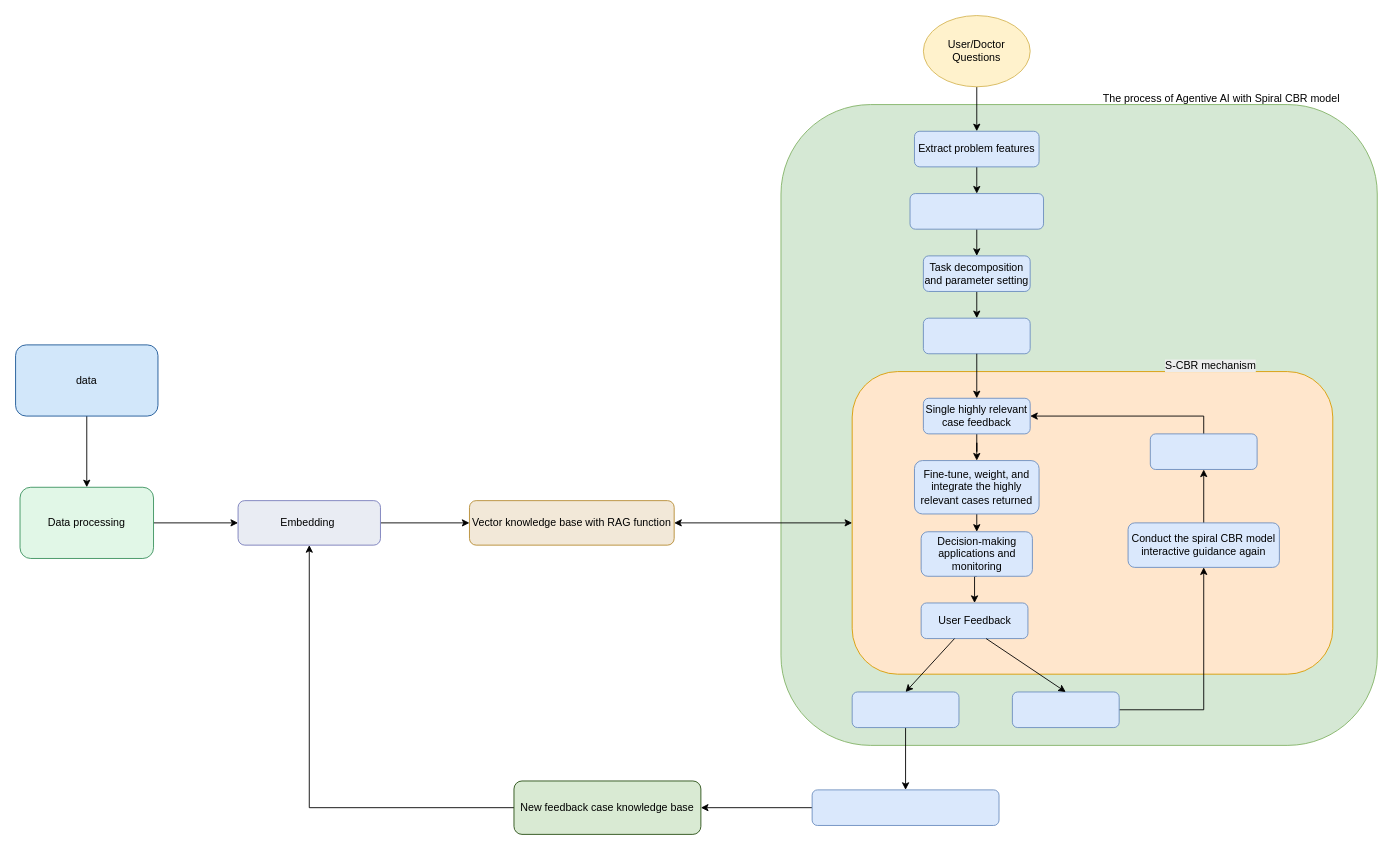
This 1393x850 diagram has some shape labels left out. The box of each missing label's shape, as (x1, y1, x2, y2) in pixels:
Decision processing and annotation: (811, 789, 999, 825)
Feature information check: (909, 193, 1044, 229)
Multi-layer attribute retrieval: (922, 317, 1030, 354)
Non-conformity: (1011, 691, 1119, 728)
Remove the current use case and retrieve: (1149, 433, 1257, 469)
Suitable: (851, 691, 959, 728)
